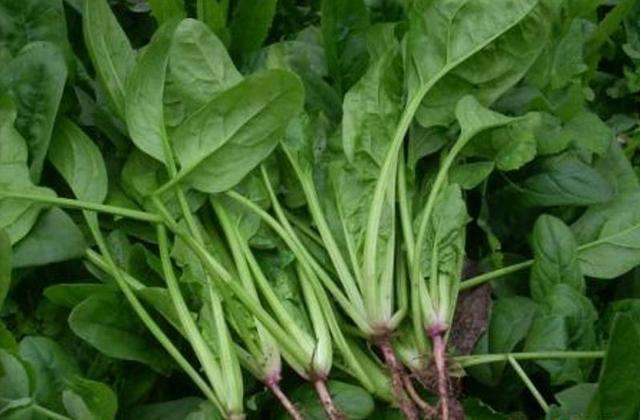bocai: (127, 22, 327, 363), (396, 93, 472, 416)
